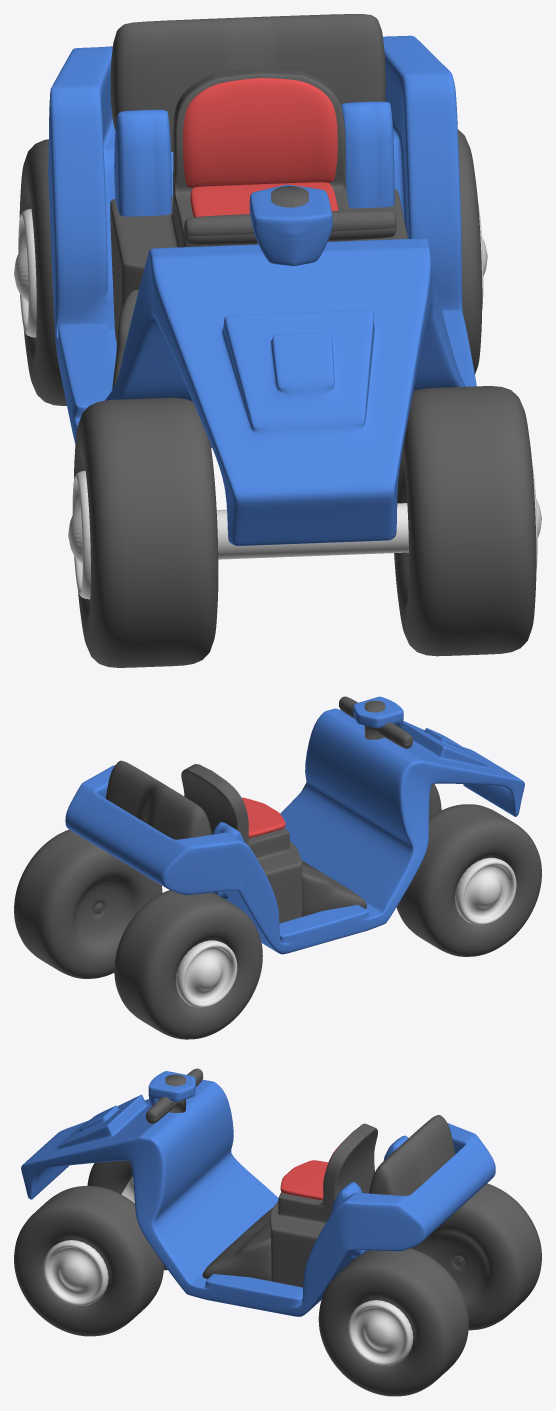
File: quad-bike-3d-animated-icon-892259027148.glb
3 renders of one model, top to bottom at view 1: azimuth 30°, elevation 25°; view 2: azimuth 150°, elevation 25°; view 3: azimuth 270°, elevation 25°, orthographic. The views are drawn at different scales.
Parts seen in each view (by area): view 1: body, tire, tire.004, chair, tire.002, Steer, wheel.003, tire.006; view 2: body, tire.002, tire, tire.006, wheel.003, chair, Steer; view 3: body, tire.006, tire.004, tire.002, wheel.003, tire, chair, Steer.
Part boxes in pixels (x1,y1,x2,y2): body: (48, 14, 476, 545); tire: (68, 397, 218, 667); tire.004: (394, 386, 541, 656); chair: (182, 78, 338, 217); tire.002: (14, 139, 66, 405); Steer: (184, 200, 408, 559); wheel.003: (184, 184, 396, 238); tire.006: (458, 129, 487, 374); body: (65, 708, 524, 954); tire.002: (114, 890, 262, 1039); tire: (396, 804, 541, 956); tire.006: (14, 829, 162, 978); wheel.003: (339, 696, 412, 743); chair: (242, 797, 285, 837); Steer: (339, 704, 412, 748); body: (21, 1079, 495, 1316); tire.006: (318, 1248, 468, 1396); tire.004: (14, 1186, 164, 1336); tire.002: (411, 1183, 541, 1330); wheel.003: (121, 1068, 203, 1200); tire: (87, 1160, 167, 1270); chair: (280, 1138, 346, 1200); Steer: (131, 1076, 203, 1203).
Size of the model in its own units: 2.71 by 1.62 by 3.47.
